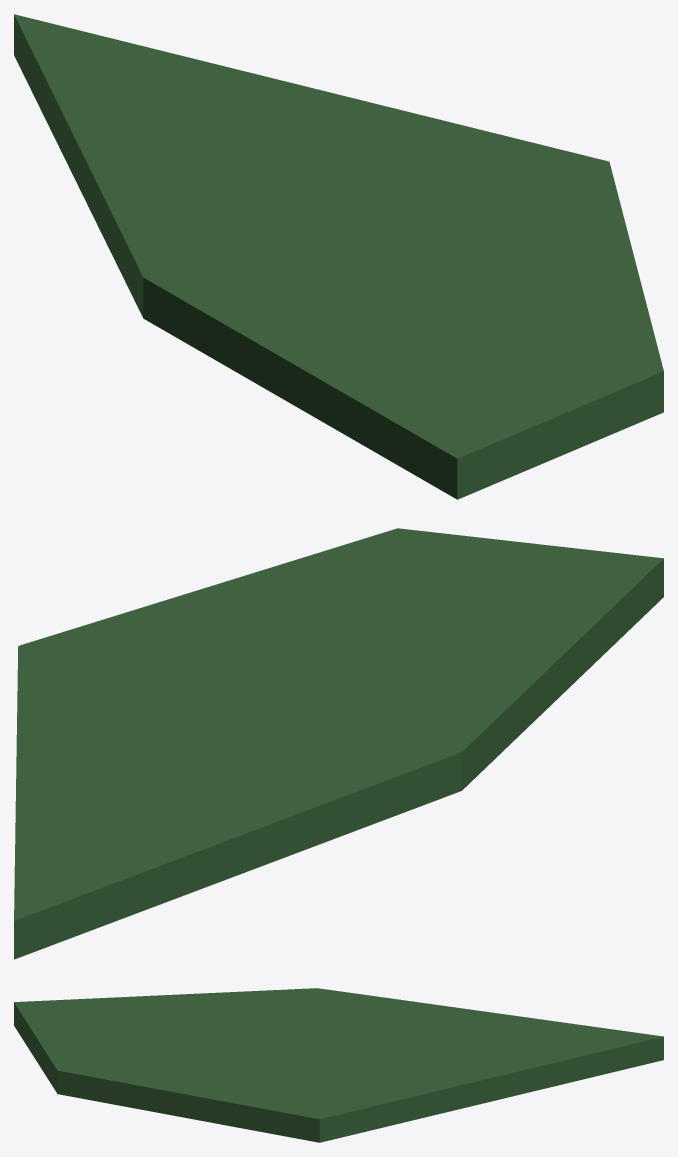
The model's file is x_proval_00_83_1_rmstrd.fbx.
3 renders of one model, top to bottom at view 1: azimuth 30°, elevation 25°; view 2: azimuth 150°, elevation 25°; view 3: azimuth 270°, elevation 25°, orthographic. The views are drawn at different scales.
Visible parts, largest first — view 1: x_proval_00_83_1_rmstrd1; view 2: x_proval_00_83_1_rmstrd1; view 3: x_proval_00_83_1_rmstrd1.
Boxes of the visible parts, bbox=[...] form: x_proval_00_83_1_rmstrd1: bbox=[14, 14, 663, 499]; x_proval_00_83_1_rmstrd1: bbox=[14, 528, 663, 959]; x_proval_00_83_1_rmstrd1: bbox=[14, 988, 663, 1142].
Bounding box in the file's own units: 2.39 × 0.2 × 5.
